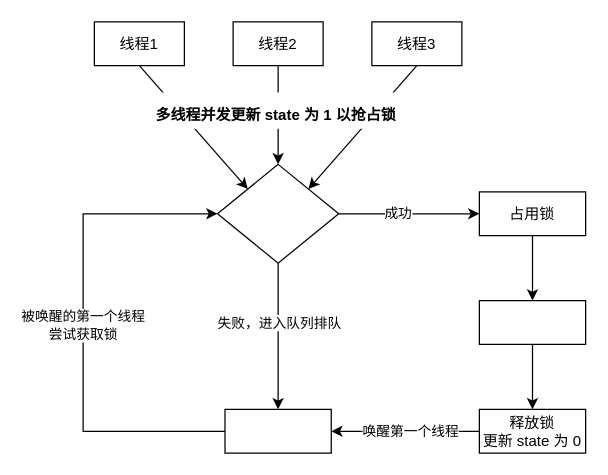
The diagram is 608 pixels wide and 475 high, and some of its shapes have lost their labels. The centre of each missing label's shape, as x and y in pixels:
CAS 更新 state 为 1: [277,213]
执行代码: [532,321]
锁的等待队列: [277,430]
